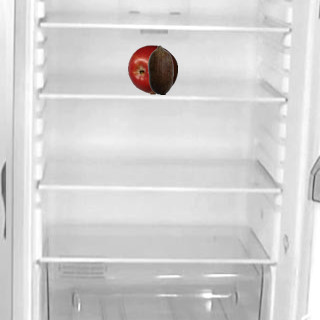Apple Braeburn: (127, 44, 177, 94)
Nut Pecan: (135, 44, 185, 94)
